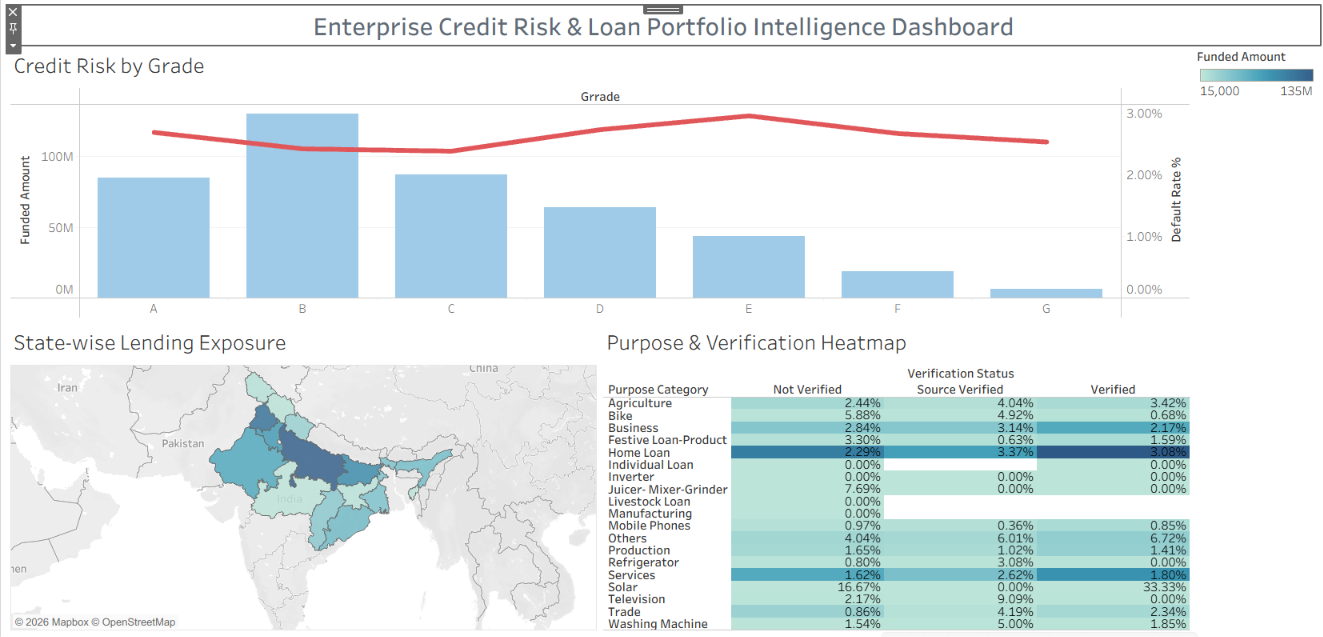

The page's visual inventory and layout, read from the dashboard file:
{"tool":"tableau","page":{"name":"Dashboard 1","canvas":[1000,1000],"units":"permille","ordinal":0},"visuals":[{"type":"title","box":[4.8,10,990.3,61.2]},{"type":"worksheet","title":"Credit Risk by Grade","mark":"Automatic","rows":["Funded Amount","Calculation_2869226276904961"],"cols":["Grrade"],"box":[4.8,71.2,895,431.9]},{"type":"legend","title":"State-wise Lending Exposure","param":"[federated.1htx8491xonuo8185agd10e22jyd].[sum:Funded Amount:qk]","box":[899.8,71.2,95.4,91.1]},{"type":"worksheet","title":"State-wise Lending Exposure","mark":"Multipolygon","box":[4.8,503.1,447.5,486.9]},{"type":"worksheet","title":"Purpose & Verification Heatmap","mark":"Square","rows":["Purpose Category"],"cols":["Verification Status"],"box":[452.3,503.1,447.5,486.9]}]}

Visuals, with their boxes on the dashboard's canvas, which has no fixed pixel size, in thousandths of its width and height (x1, y1, x2, y2). These are canvas units, not pixel positions in the 1323x637 screenshot, which may show the page scaled, cropped or inside an application window:
title: bbox=(5, 10, 995, 71)
"Credit Risk by Grade" worksheet: bbox=(5, 71, 900, 503)
"State-wise Lending Exposure" legend: bbox=(900, 71, 995, 162)
"State-wise Lending Exposure" worksheet (Multipolygon marks): bbox=(5, 503, 452, 990)
"Purpose & Verification Heatmap" worksheet (Square marks): bbox=(452, 503, 900, 990)
